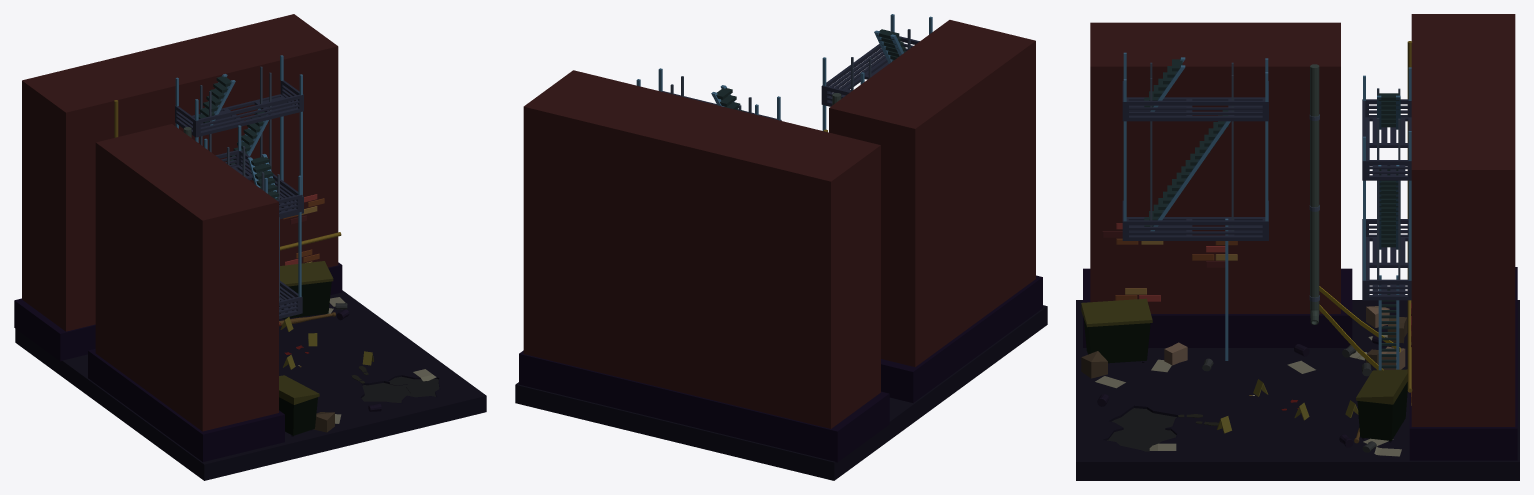
File: murder-scene.glb
3 views of the same model, side by side, from view 1: azimuth 30°, elevation 25°; view 2: azimuth 150°, elevation 25°; view 3: azimuth 270°, elevation 25° (orthographic). The views are drawn at different scales.
Visible parts, largest first — view 1: Cube.002_2, Cube.001_1, Cube_0, Cube.065_65, Cube.066_66, Cube.011_4, Cube.081_101, Cube.069_78, Cube.067_72, Cube.068_73, Cube.013_5, Cube.070_79 (+3 smaller); view 2: Cube.001_1, Cube.002_2, Cube.066_66, Cube_0, Cube.065_65, Cube.021_16; view 3: Cube.002_2, Cube.001_1, Cube_0, Cube.065_65, Cube.066_66, Cube.021_16, Cube.004_12, Cylinder_67, Cube.069_78, Cube.081_101, Cube.067_72, Cube.070_79 (+16 smaller).
Boxes of the visible parts, left/top/right/bottom form: Cube.002_2: left=95, top=124, right=278, bottom=431; Cube.001_1: left=22, top=14, right=338, bottom=331; Cube_0: left=15, top=290, right=486, bottom=480; Cube.065_65: left=88, top=349, right=284, bottom=461; Cube.066_66: left=14, top=262, right=342, bottom=361; Cube.011_4: left=194, top=94, right=303, bottom=137; Cube.081_101: left=361, top=376, right=439, bottom=402; Cube.069_78: left=279, top=397, right=317, bottom=435; Cube.067_72: left=281, top=281, right=331, bottom=318; Cube.068_73: left=280, top=261, right=333, bottom=286; Cube.013_5: left=175, top=94, right=297, bottom=136; Cube.070_79: left=279, top=375, right=319, bottom=404; Cube.001_1: left=523, top=70, right=880, bottom=428; Cube.002_2: left=829, top=20, right=1035, bottom=367; Cube.066_66: left=519, top=350, right=889, bottom=462; Cube_0: left=515, top=305, right=1047, bottom=480; Cube.065_65: left=881, top=275, right=1042, bottom=402; Cube.021_16: left=821, top=44, right=885, bottom=104; Cube.002_2: left=1090, top=22, right=1340, bottom=313; Cube.001_1: left=1411, top=14, right=1515, bottom=426; Cube_0: left=1076, top=300, right=1519, bottom=480; Cube.065_65: left=1083, top=268, right=1352, bottom=347; Cube.066_66: left=1409, top=267, right=1517, bottom=460; Cube.021_16: left=1122, top=100, right=1268, bottom=121; Cube.004_12: left=1122, top=220, right=1268, bottom=240; Cylinder_67: left=1310, top=64, right=1319, bottom=324; Cube.069_78: left=1083, top=318, right=1150, bottom=363; Cube.081_101: left=1107, top=408, right=1176, bottom=451; Cube.067_72: left=1357, top=382, right=1407, bottom=440; Cube.070_79: left=1081, top=298, right=1152, bottom=327.
Size of the model in its own units: 9.38 by 8.53 by 10.8.
